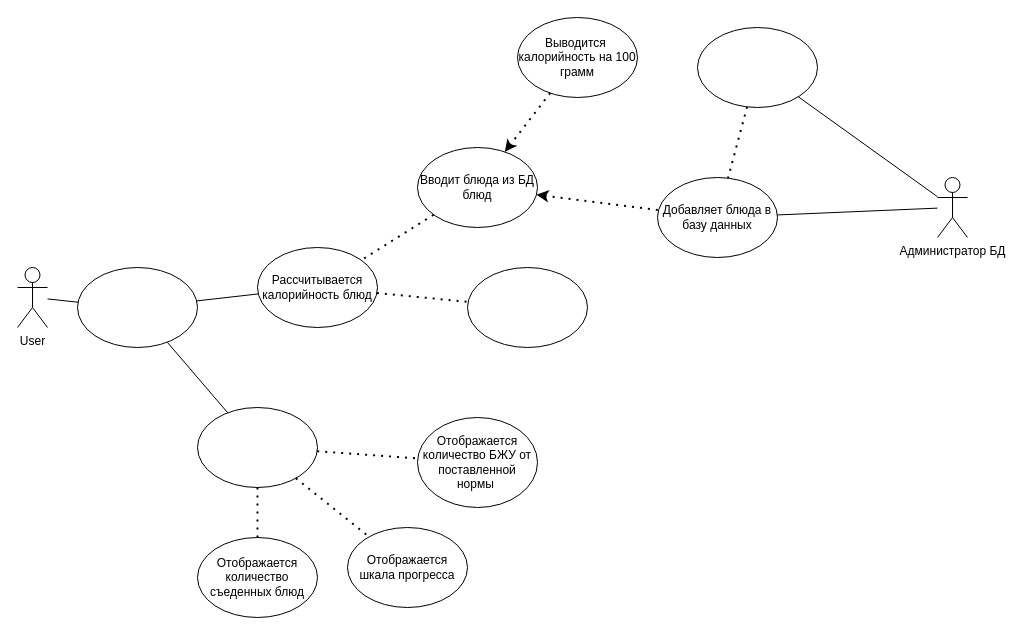
Some shapes in this 1023 by 635 pixel diagram are drawn without their labels. The shapes that lost their labels are listed below. From the top down, each one's box as (x1, y1, x2, y2) in pixels, then its label:
(696, 26, 818, 108): Добавляет калорийность блюд
(76, 266, 198, 348): Авторизуется
(466, 266, 588, 348): Вводит вес блюд
(196, 406, 318, 488): Ставит ежедневную цель
